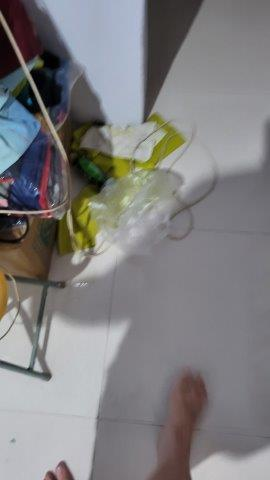plastik: (82, 170, 191, 259)
